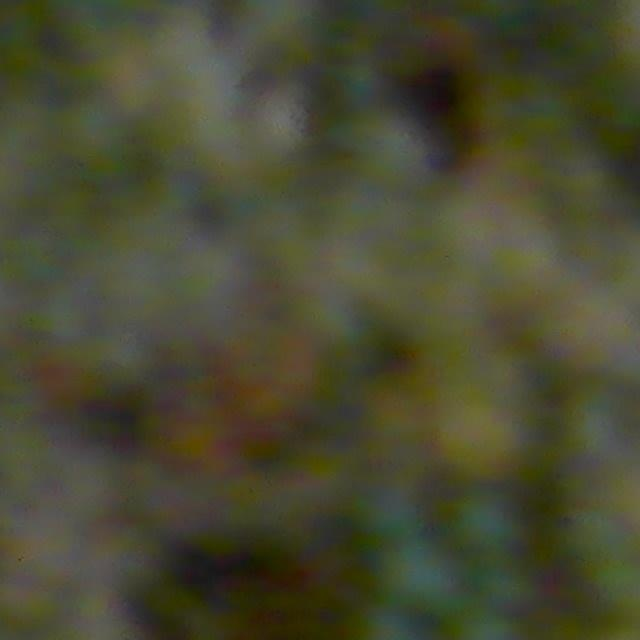SeaGrape: (380, 535, 465, 618), (559, 390, 640, 471), (449, 487, 525, 558)
